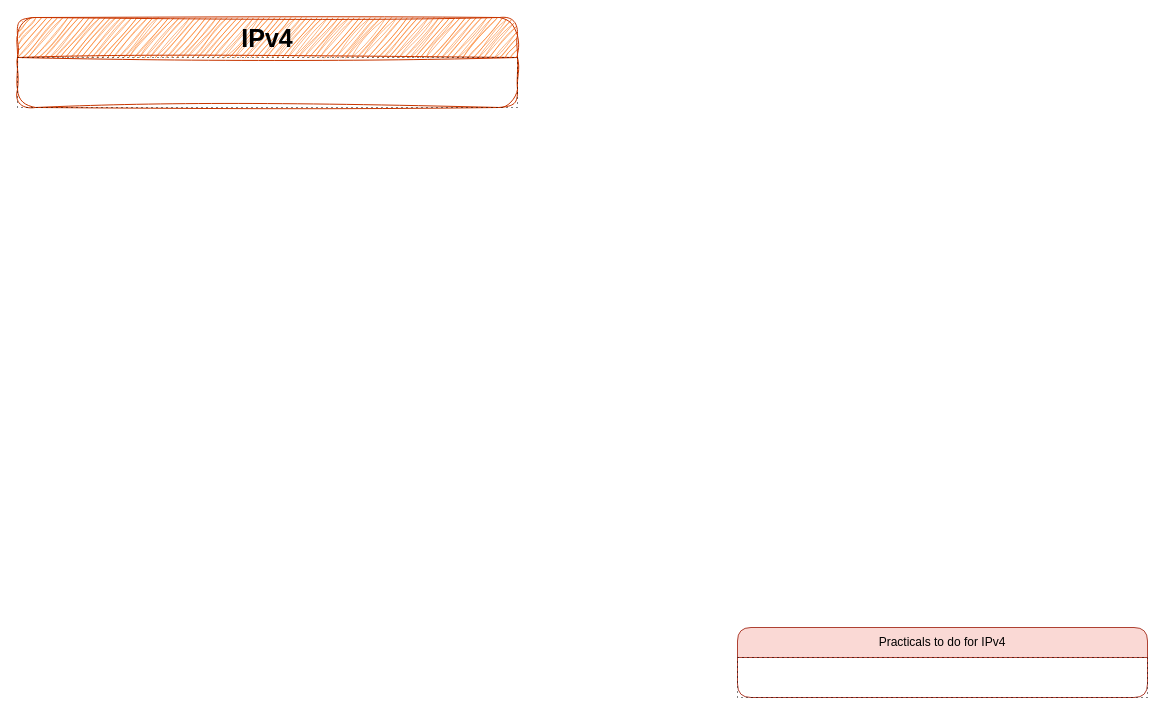
The diagram is 1165 pixels wide and 715 high, and some of its shapes have lost their labels. The centre of each missing label's shape, as x and y in pixels:
"1. Inspect IPv4 packet structure in wireshark" belongs at (942,677).
"1. Version 4 of Internet protocol" belongs at (267,82).
